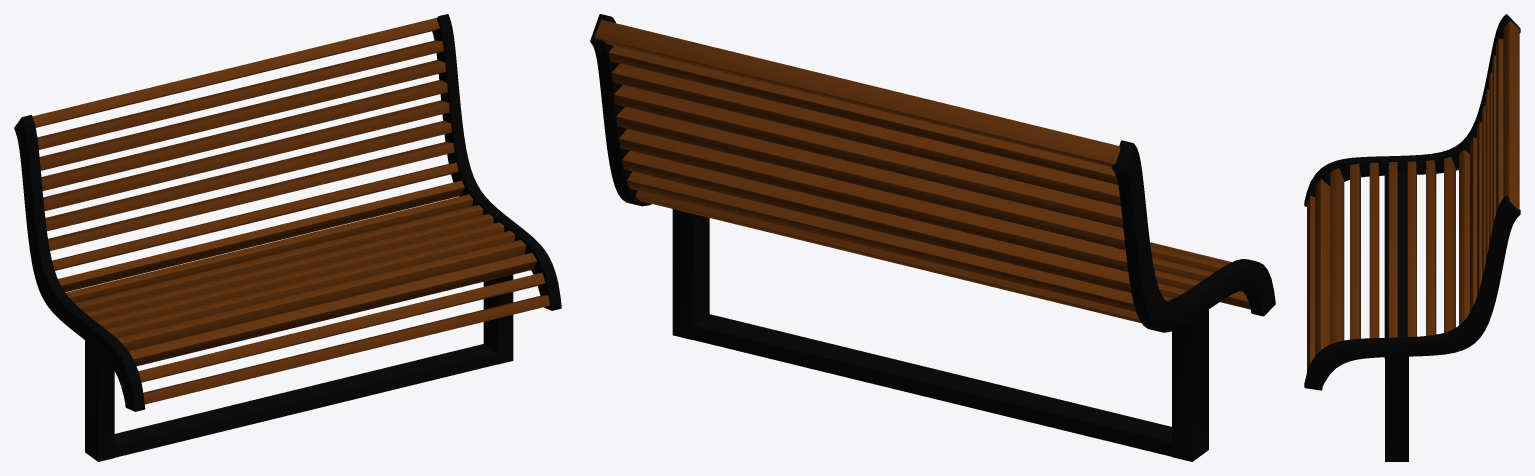
File: objekts1-lawka.glb
3 views of the same model, side by side, from view 1: azimuth 30°, elevation 25°; view 2: azimuth 150°, elevation 25°; view 3: azimuth 270°, elevation 25° (orthographic). The views are drawn at different scales.
Parts seen in each view (by area): view 1: Plane.002; view 2: Plane.002; view 3: Plane.002.
Boxes of the visible parts, box(x1,y1,x2,y2) form: Plane.002: box(14, 14, 561, 461); Plane.002: box(590, 14, 1275, 461); Plane.002: box(1304, 14, 1520, 461).
Bounding box in the file's own units: 4.43 × 2.94 × 2.18.
1 material, 1 textured.
